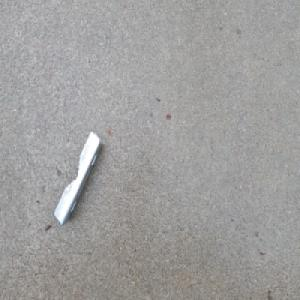ClampPart: (53, 129, 103, 226)
